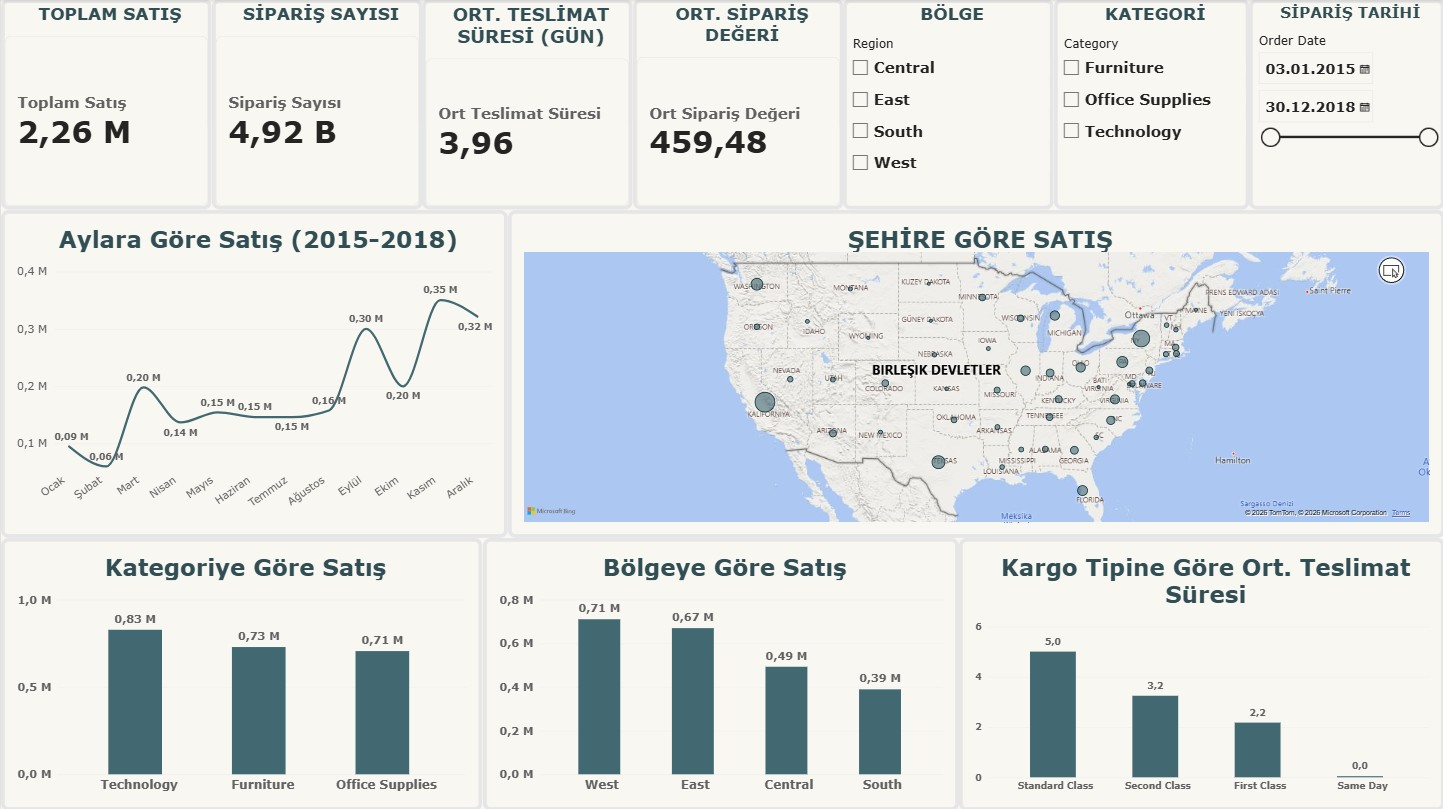

The dashboard page shown, as its layout file describes it:
{"tool":"powerbi","page":{"name":"1. sayfa","canvas":[1920,1080],"ordinal":0},"visuals":[{"type":"cardVisual","title":"TOPLAM SATIŞ","fields":{"Data":["Superstore.Toplam Satış"]},"box":[0,0,280,280],"z":0},{"type":"cardVisual","title":"SİPARİŞ SAYISI","fields":{"Data":["Superstore.Sipariş Sayısı"]},"box":[280.1,0,280,280],"z":1000},{"type":"cardVisual","title":"ORT. SİPARİŞ DEĞERİ","fields":{"Data":["Superstore.Ort Sipariş Değeri"]},"box":[840.4,0,280,280],"z":2000},{"type":"cardVisual","title":"ORT. TESLİMAT SÜRESİ (GÜN)","fields":{"Data":["Superstore.Ort Teslimat Süresi"]},"box":[560.2,0,280,280],"z":3000},{"type":"lineChart","title":"Aylara Göre Satış (2015-2018)","fields":{"Category":["Superstore.Order Date.Varyasyon.Tarih Hiyerarşisi.Yıl","Superstore.Order Date.Varyasyon.Tarih Hiyerarşisi.Ay"],"Y":["Superstore.Toplam Satış"]},"box":[0,280.6,674.3,436.3],"z":4000},{"type":"columnChart","title":"Kategoriye Göre Satış","fields":{"Category":["Superstore.Category"],"Y":["Superstore.Toplam Satış"]},"box":[0,716.4,640.5,363.3],"z":5000},{"type":"columnChart","title":"Kargo Tipine Göre Ort. Teslimat Süresi","fields":{"Category":["Superstore.Ship Mode"],"Y":["Superstore.Ort Teslimat Süresi"]},"box":[1273.7,716.4,646.3,363.3],"z":6000},{"type":"columnChart","title":"Bölgeye Göre Satış","fields":{"Category":["Superstore.Region"],"Y":["Superstore.Toplam Satış"]},"box":[640.5,716.4,633.2,363.3],"z":7000},{"type":"slicer","title":"SİPARİŞ TARİHİ","fields":{"Values":["Superstore.Order Date"]},"box":[1660.3,0,259.7,280.1],"z":8000},{"type":"slicer","title":"BÖLGE","fields":{"Values":["Superstore.Region"]},"box":[1120.5,0,280.1,280.1],"z":9000},{"type":"slicer","title":"KATEGORİ","fields":{"Values":["Superstore.Category"]},"box":[1400.6,0,259.7,280.1],"z":10000},{"type":"map","title":"ŞEHİRE GÖRE SATIŞ","fields":{"Category":["Superstore.State"],"Size":["Superstore.Toplam Satış"]},"box":[674.3,280.6,1246.3,436.3],"z":11000}]}

Visuals, with their boxes in screenshot pixels (x1, y1, x2, y2), scaled from the page's 1920x1080 canvas onto the 1443x809 screenshot:
"TOPLAM SATIŞ" cardVisual: [x1=0, y1=0, x2=210, y2=210]
"SİPARİŞ SAYISI" cardVisual: [x1=211, y1=0, x2=421, y2=210]
"ORT. SİPARİŞ DEĞERİ" cardVisual: [x1=632, y1=0, x2=842, y2=210]
"ORT. TESLİMAT SÜRESİ (GÜN)" cardVisual: [x1=421, y1=0, x2=631, y2=210]
"Aylara Göre Satış (2015-2018)" lineChart: [x1=0, y1=210, x2=507, y2=537]
"Kategoriye Göre Satış" columnChart: [x1=0, y1=537, x2=481, y2=808]
"Kargo Tipine Göre Ort. Teslimat Süresi" columnChart: [x1=957, y1=537, x2=1442, y2=808]
"Bölgeye Göre Satış" columnChart: [x1=481, y1=537, x2=957, y2=808]
"SİPARİŞ TARİHİ" slicer: [x1=1248, y1=0, x2=1442, y2=210]
"BÖLGE" slicer: [x1=842, y1=0, x2=1053, y2=210]
"KATEGORİ" slicer: [x1=1053, y1=0, x2=1248, y2=210]
"ŞEHİRE GÖRE SATIŞ" map: [x1=507, y1=210, x2=1442, y2=537]
